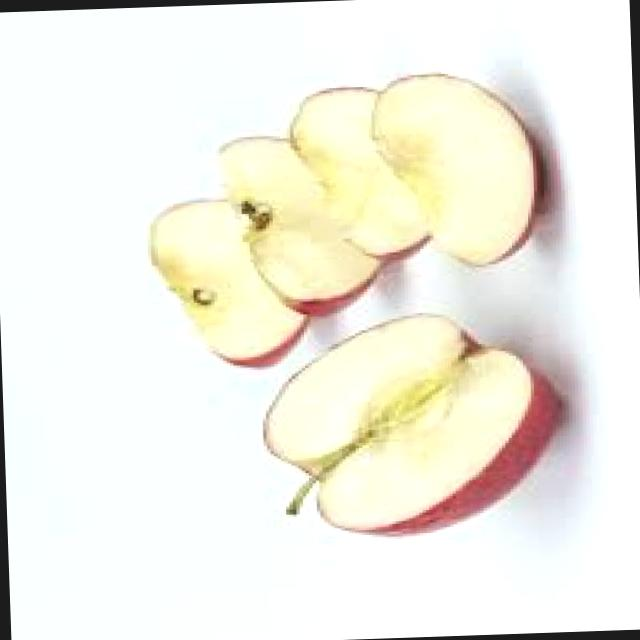Used Apple: (259, 312, 566, 540), (374, 71, 542, 268), (220, 133, 376, 315), (148, 194, 310, 368), (286, 87, 428, 256)
